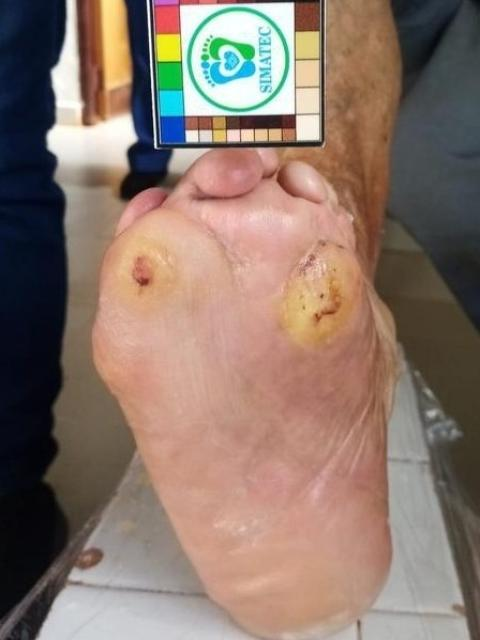wound: (284, 238, 357, 343), (129, 252, 160, 292)
